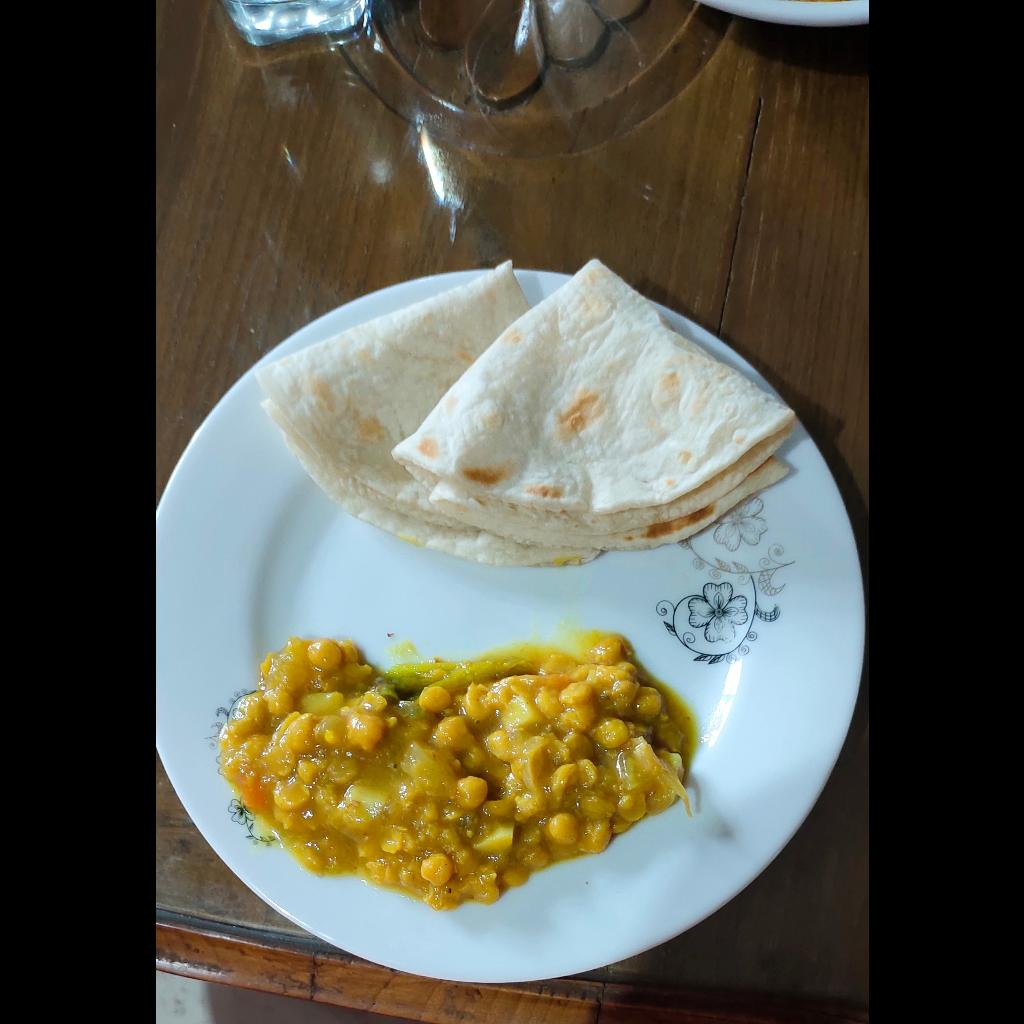daal: (212, 629, 695, 910)
ruti: (247, 249, 803, 572)
